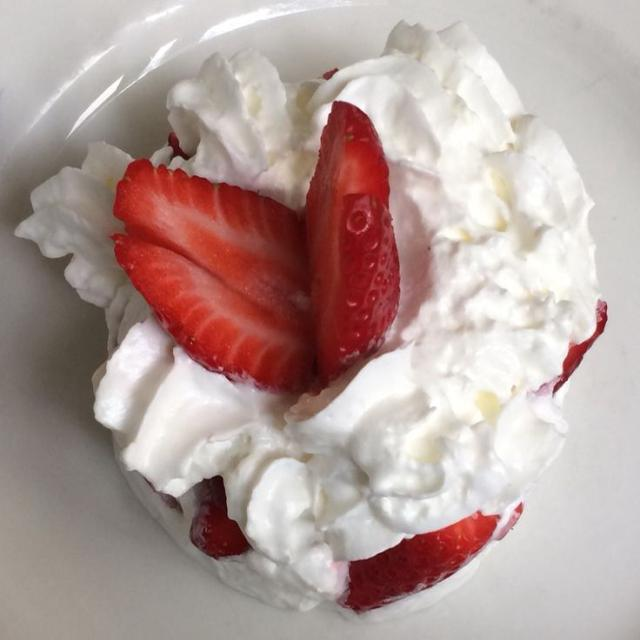strawberry sliced: (114, 160, 313, 391), (114, 234, 313, 391), (114, 159, 308, 313), (307, 102, 399, 380), (340, 512, 499, 611), (554, 300, 607, 393), (190, 476, 249, 558), (167, 132, 189, 159), (322, 68, 338, 80)
